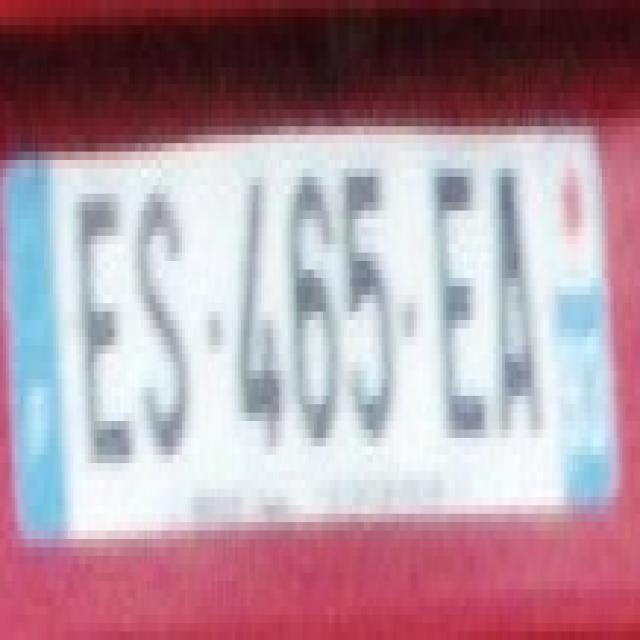EU: (1, 160, 623, 536)
France: (4, 167, 64, 542)
